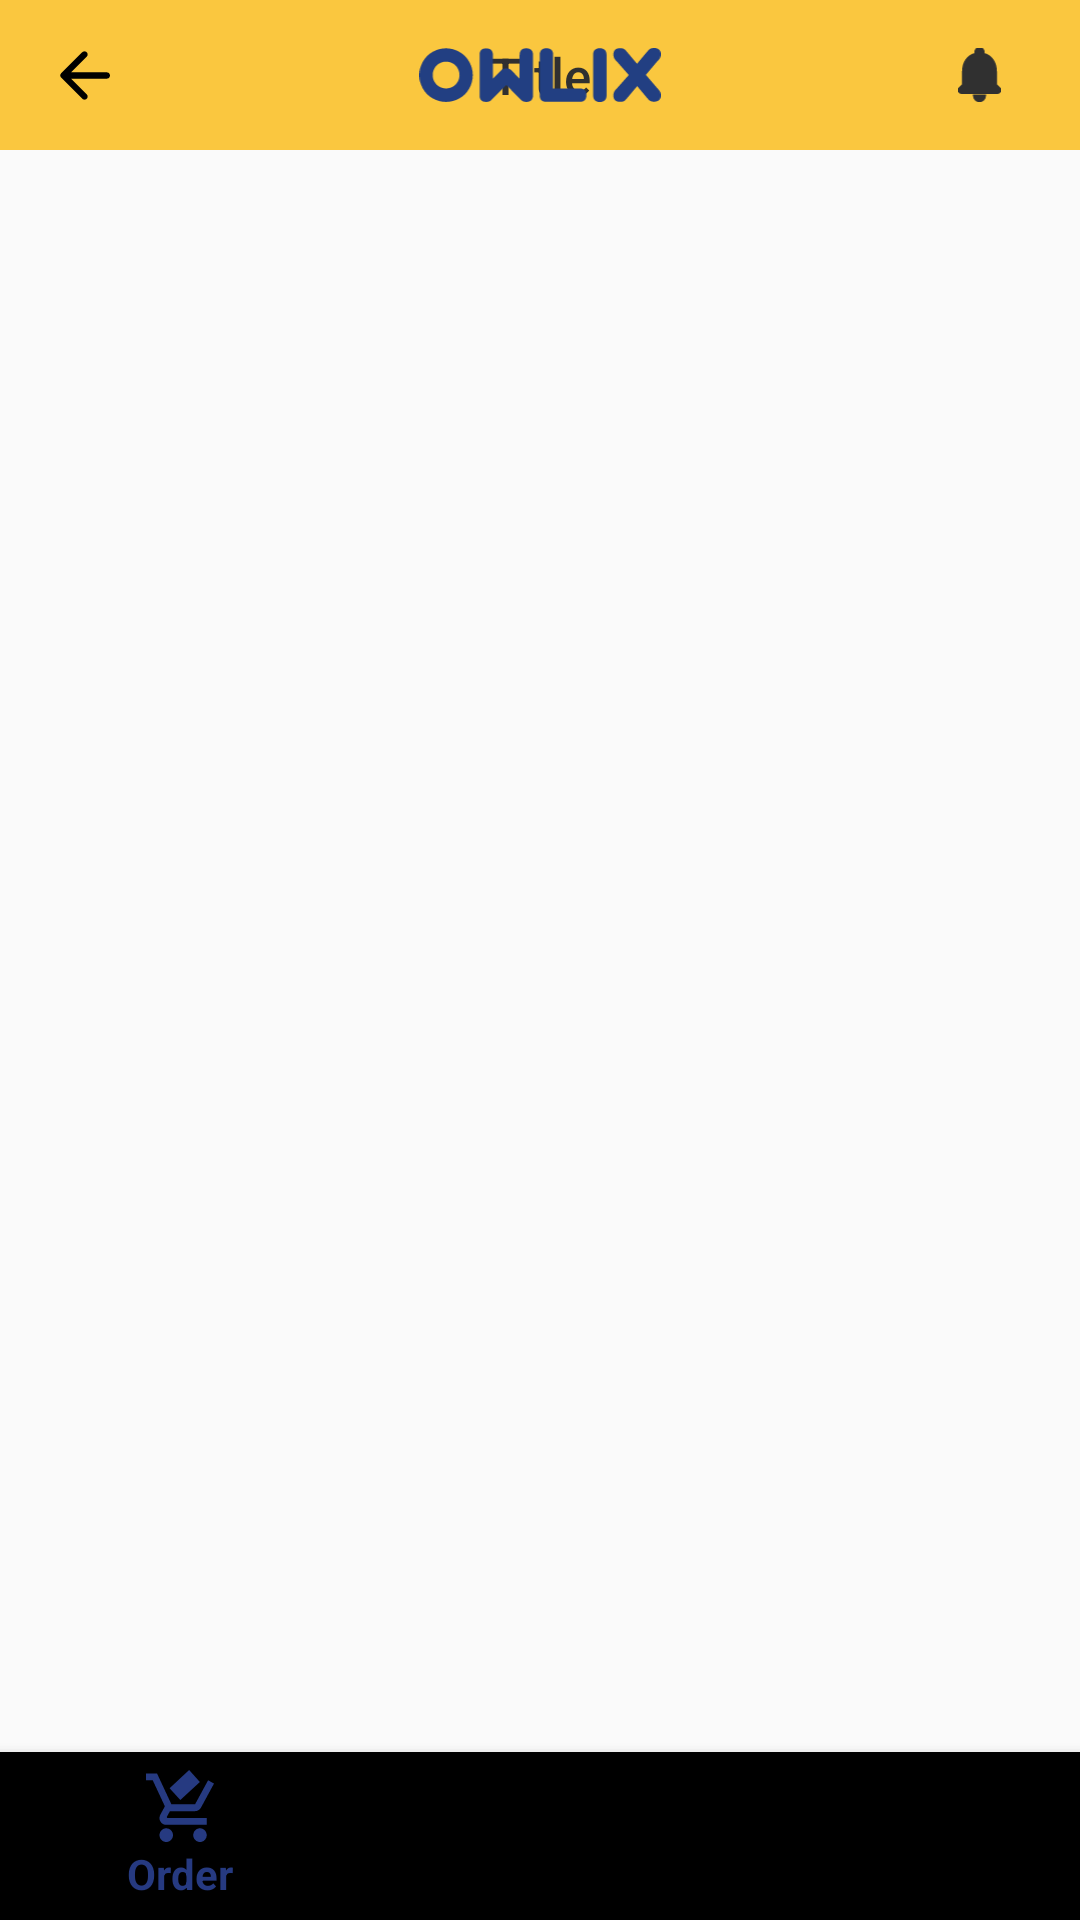

Icon click points for this 1080 x 1920 phone screenshot, format (x,y):
notification: (979,75)
